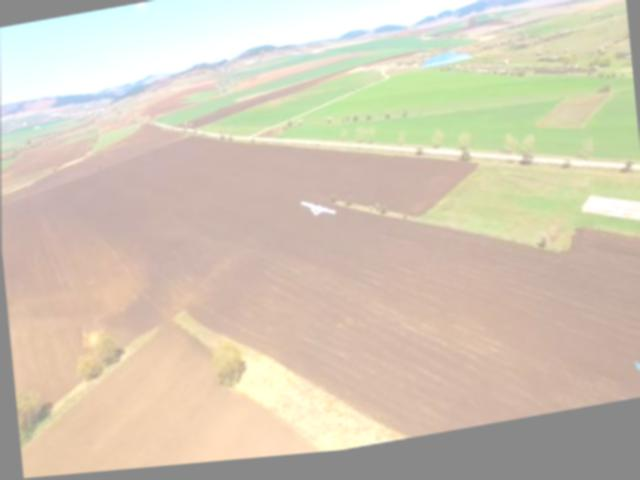uav: (294, 192, 339, 236)
